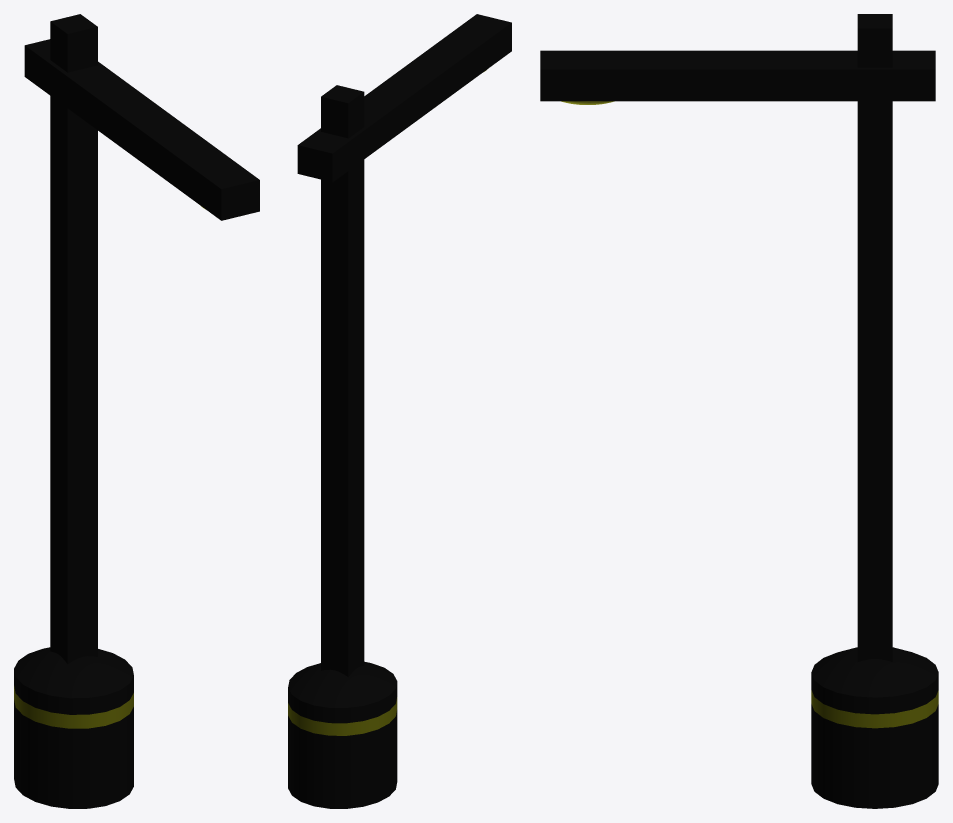
Rendered from Lampara_Calle.obj.
3 renders of one model, left to right at view 1: azimuth 30°, elevation 25°; view 2: azimuth 150°, elevation 25°; view 3: azimuth 270°, elevation 25°, orthographic. The views are drawn at different scales.
Parts seen in each view (by area): view 1: pCube3; view 2: pCube3; view 3: pCube3.
Boxes of the visible parts, x1,y1,x2,y2 form: pCube3: (14, 14, 259, 808); pCube3: (288, 14, 511, 808); pCube3: (540, 14, 938, 808).
Size of the model in its own units: 2.87 by 20.36 by 9.65.
